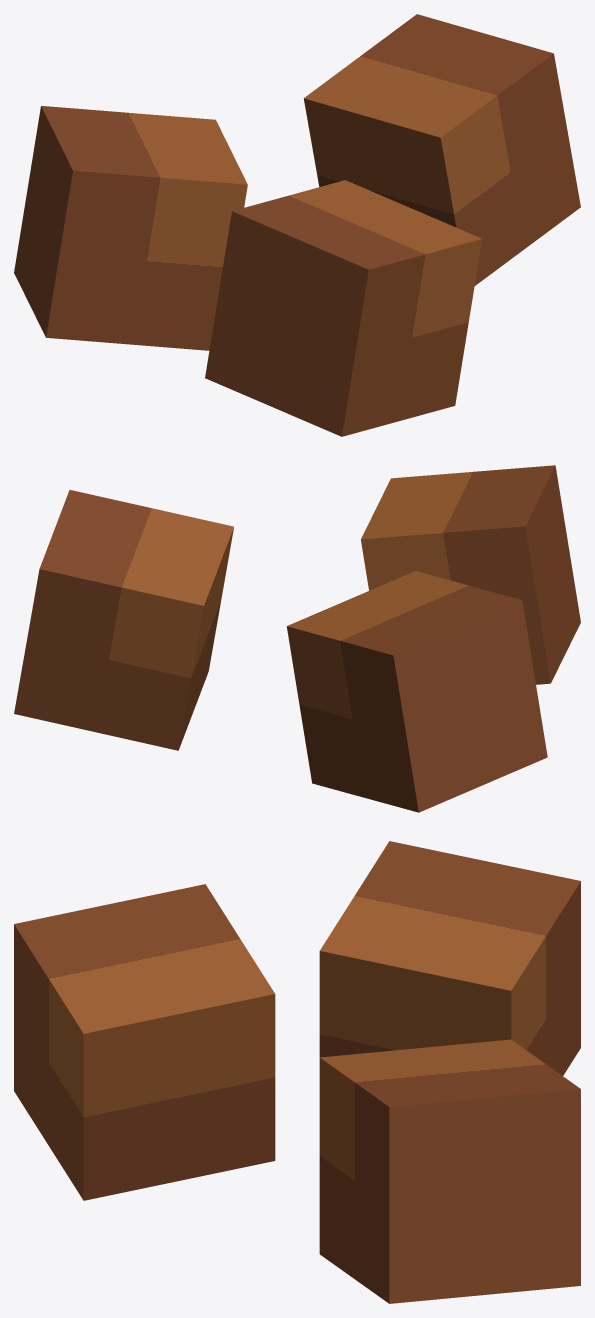
The model's file is cranberry-seeds.gltf.
3 renders of one model, top to bottom at view 1: azimuth 30°, elevation 25°; view 2: azimuth 150°, elevation 25°; view 3: azimuth 270°, elevation 25°, orthographic. The views are drawn at different scales.
Visible parts, largest first — view 1: cube (×3); view 2: cube (×3); view 3: cube (×3).
Part boxes in pixels (x1,y1,x2,y2): cube (×3): [14, 14, 580, 436]; cube (×3): [14, 465, 580, 812]; cube (×3): [14, 841, 580, 1303].
Bounding box in the file's own units: 0.4295 × 0.1509 × 0.3477.
1 material, 1 textured.
